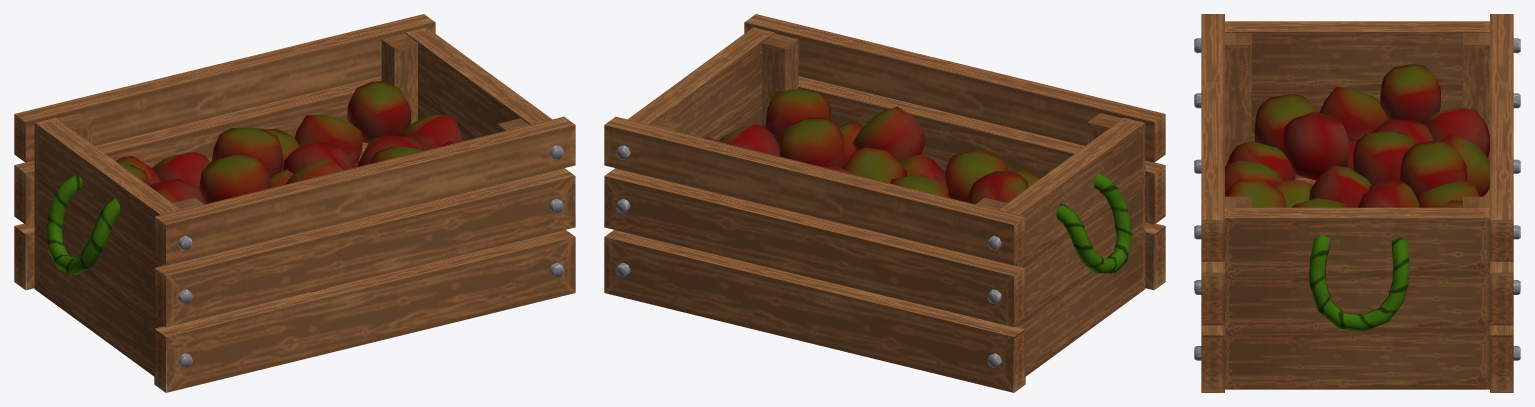
Rendered from FarmCrate_Apple.gltf.
3 views of the same model, side by side, from view 1: azimuth 30°, elevation 25°; view 2: azimuth 150°, elevation 25°; view 3: azimuth 270°, elevation 25° (orthographic). The views are drawn at different scales.
Visible parts, largest first — view 1: FarmCrate_Apple; view 2: FarmCrate_Apple; view 3: FarmCrate_Apple.
Part boxes in pixels (x1,y1,x2,y2): FarmCrate_Apple: (14,14,575,392); FarmCrate_Apple: (604,14,1165,392); FarmCrate_Apple: (1194,14,1520,392).
Bounding box in the file's own units: 0.7138 × 0.2438 × 0.4142.
3 materials, 3 textured.
